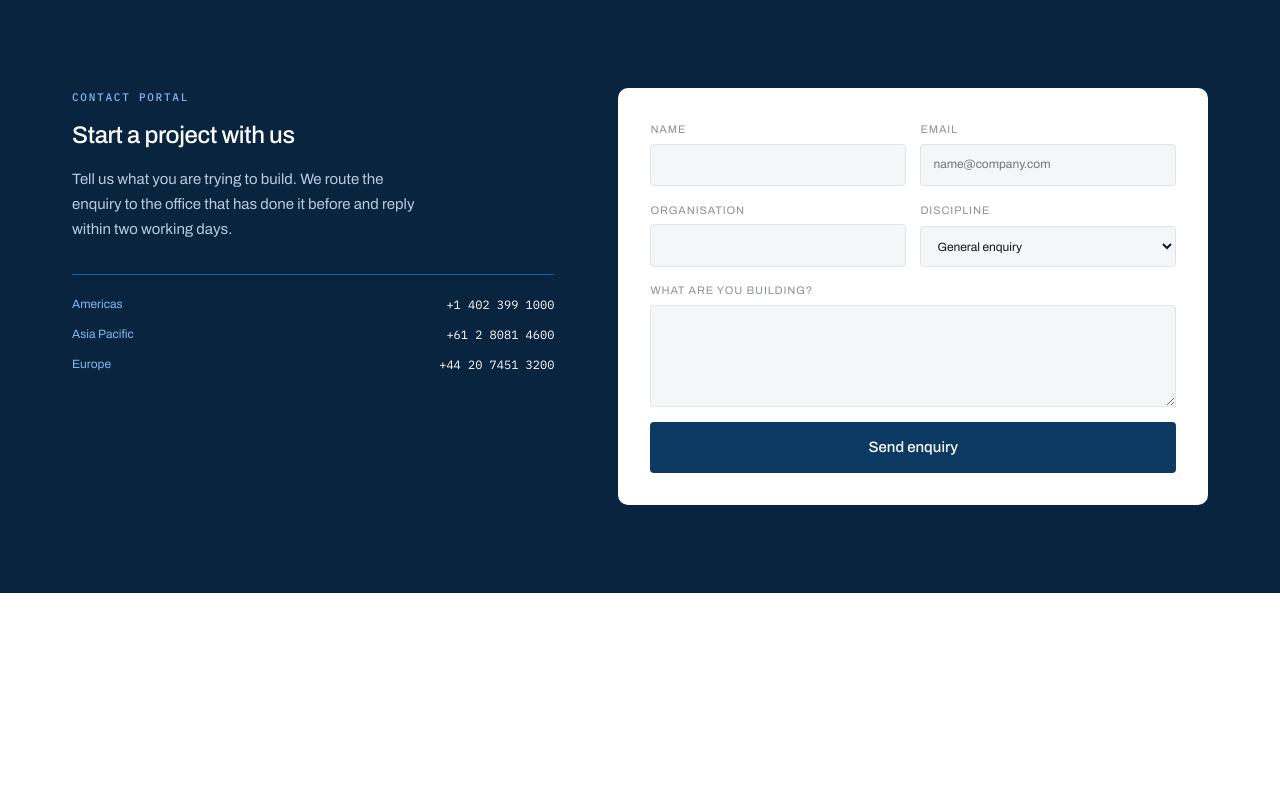
ContactPortal › replaces the form with a receipt once the enquiry lands
Step 1. Type "Nini Chen" into the field with id "name" → {"x": 778, "y": 165}, box [650, 144, 906, 186]
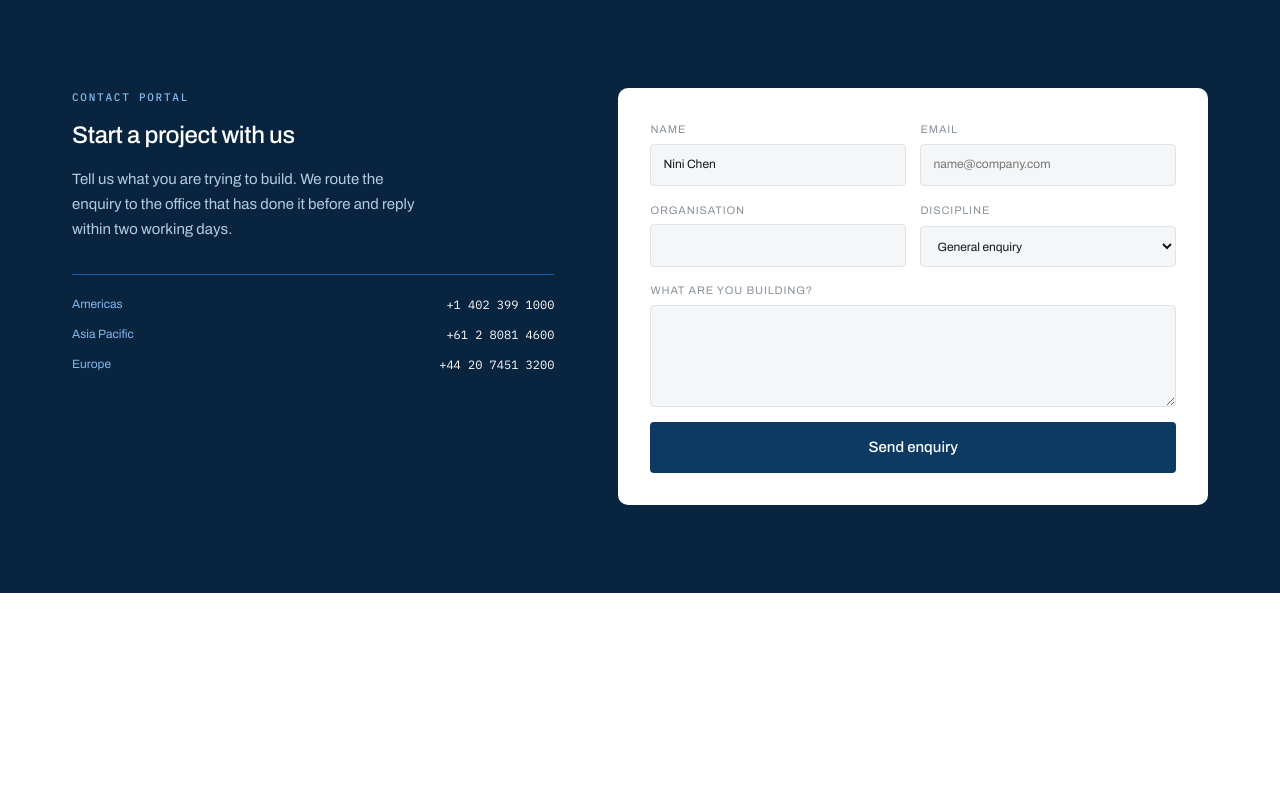
Step 2. Type "nini@example.com" into the field with id "email" → {"x": 1048, "y": 165}, box [920, 144, 1176, 186]
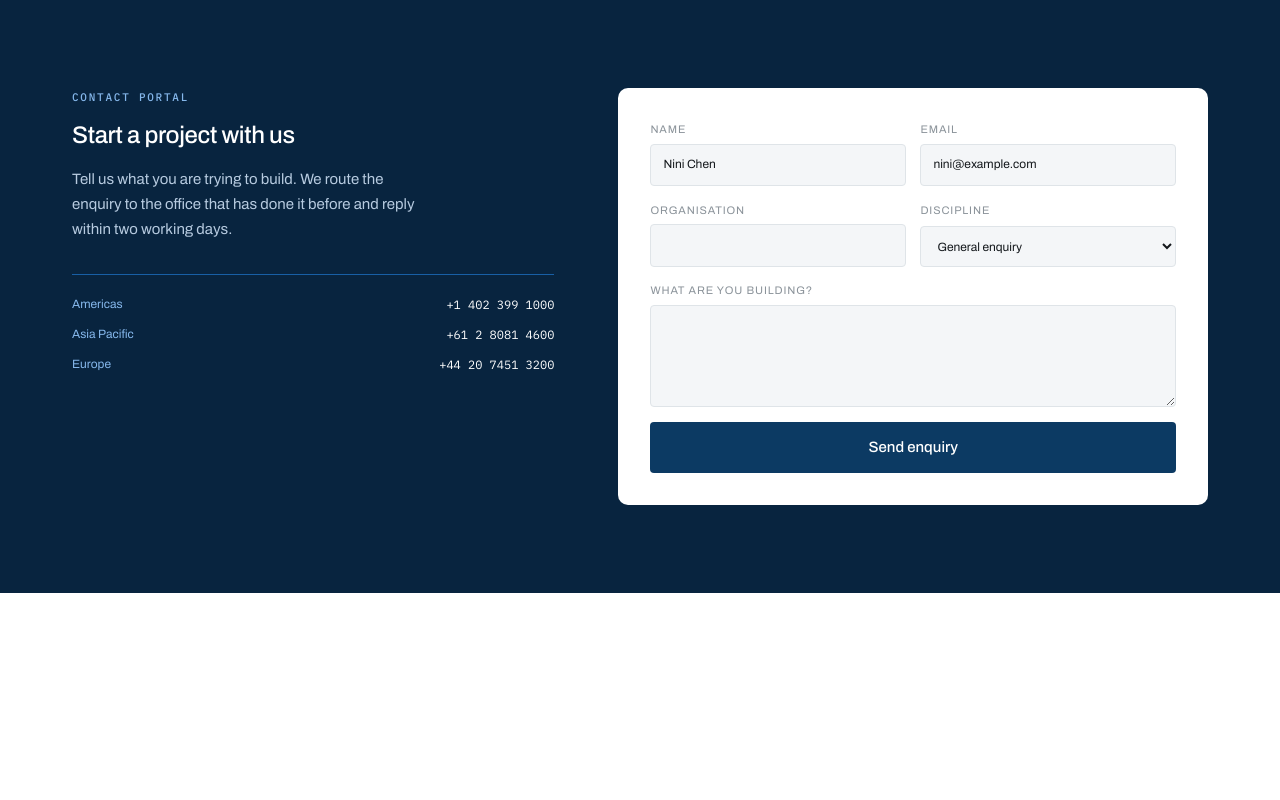
Step 3. Type "Kaohsiung Water Bureau" into the field with id "organisation" → {"x": 778, "y": 246}, box [650, 224, 906, 267]
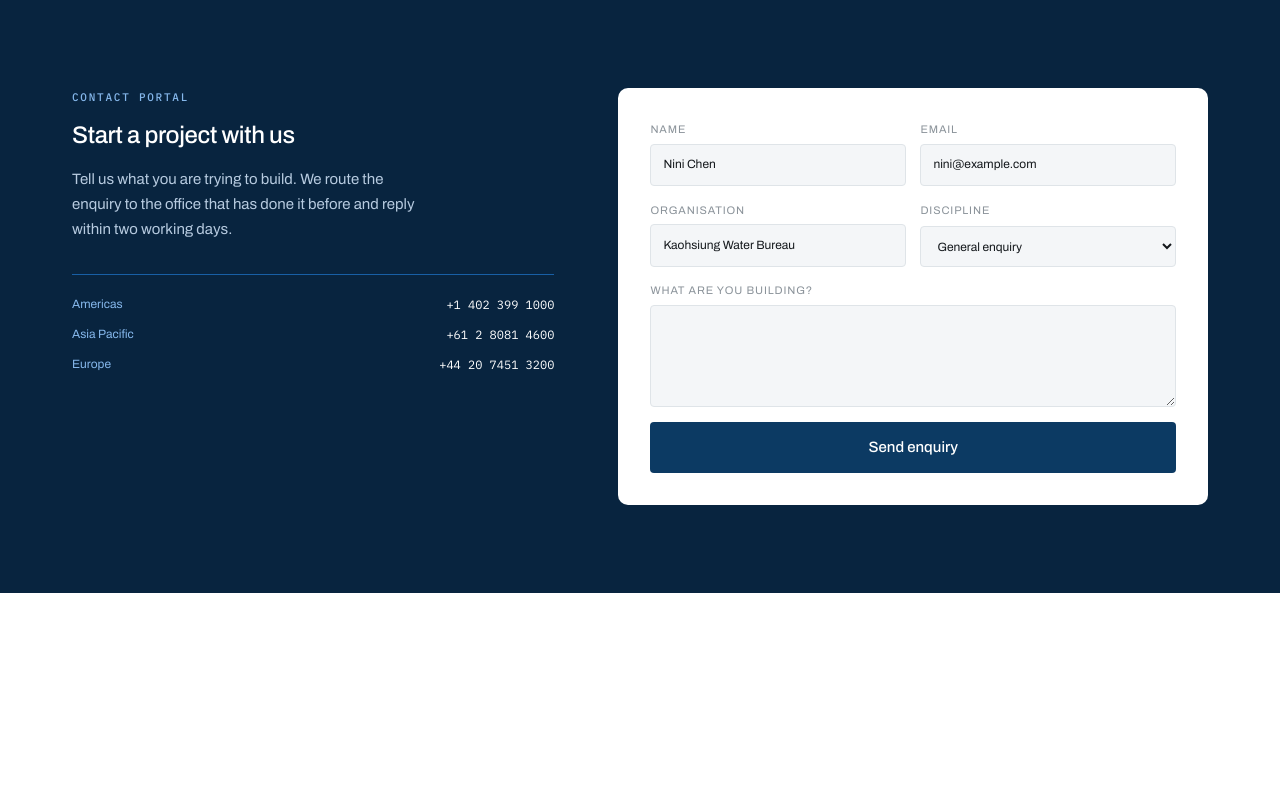
Step 4. Select "Water" in the dropdown with id "discipline" → {"x": 1048, "y": 247}, box [920, 226, 1176, 267]
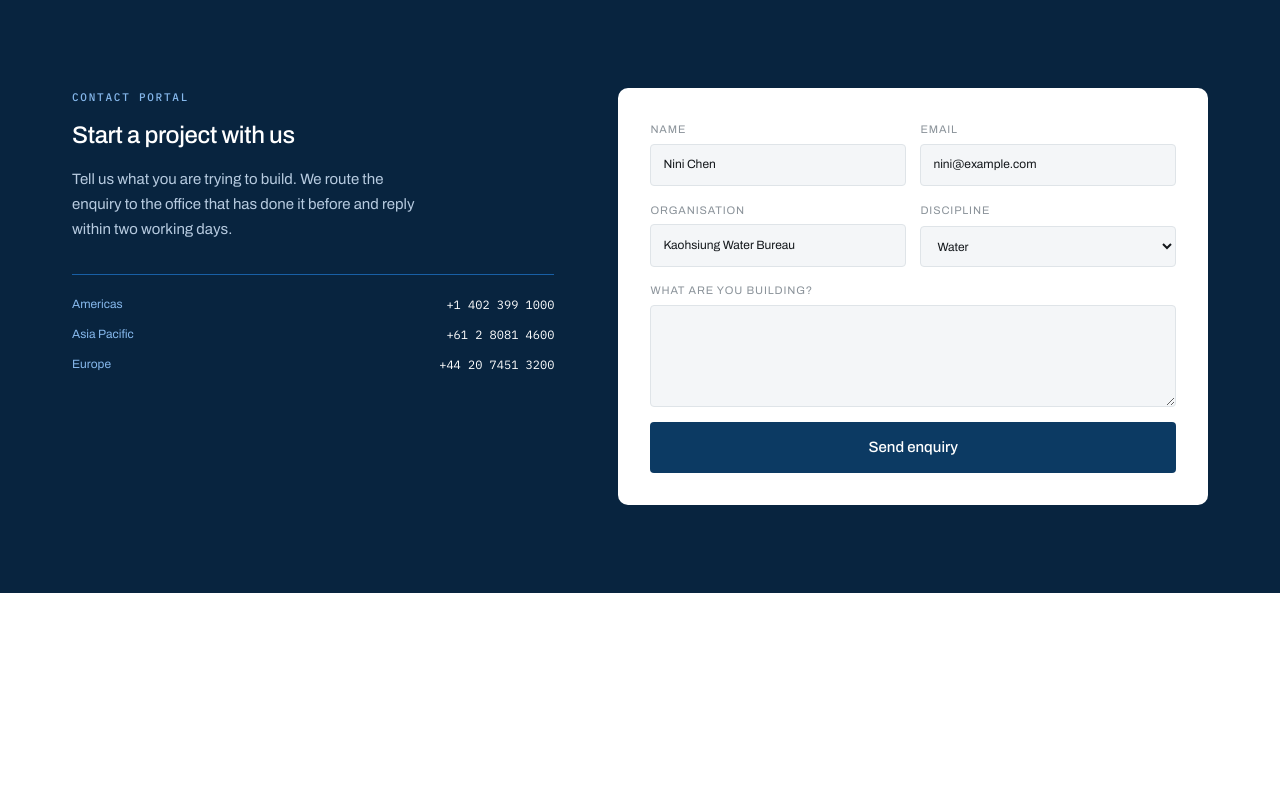
Step 5. Type "We are scoping a reuse plant and need a permitting strategy." into the text box with id "message" → {"x": 913, "y": 356}, box [650, 305, 1176, 407]
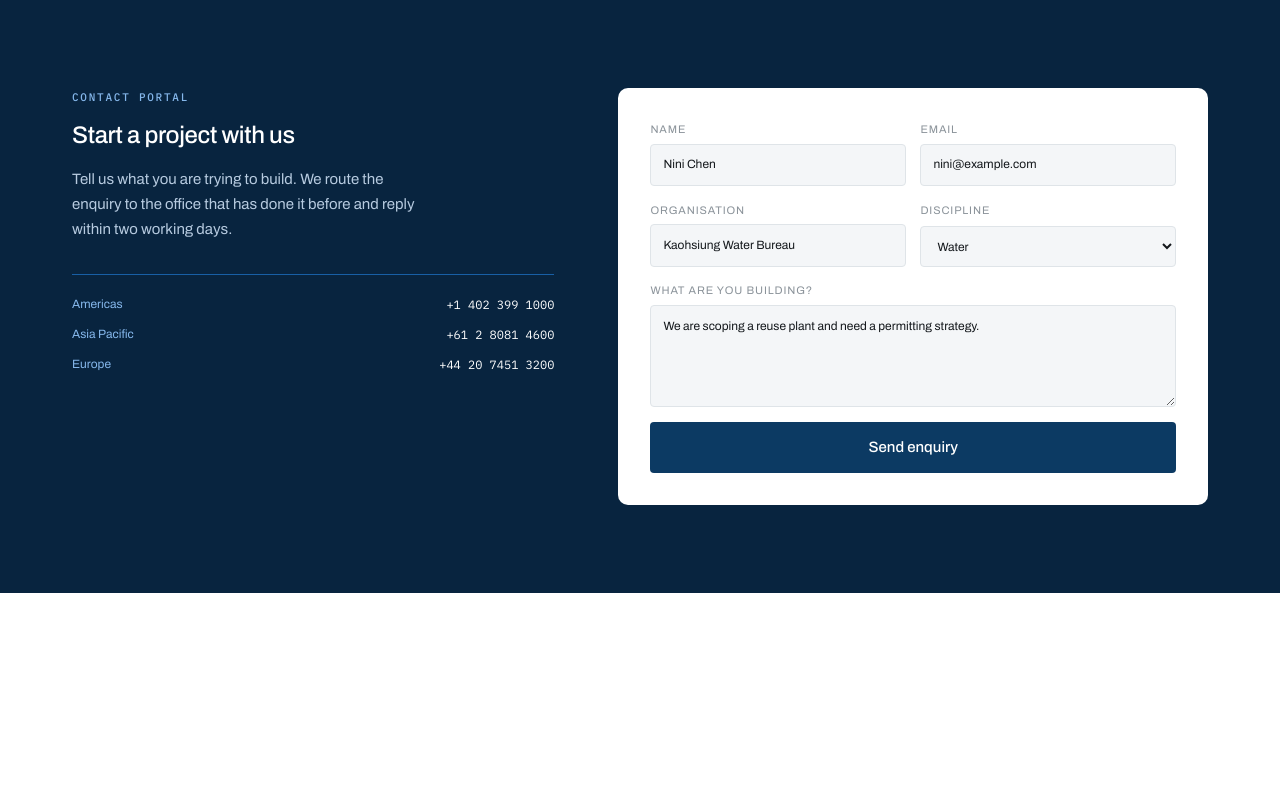
Step 6. Submit the form, box [650, 120, 1176, 473]
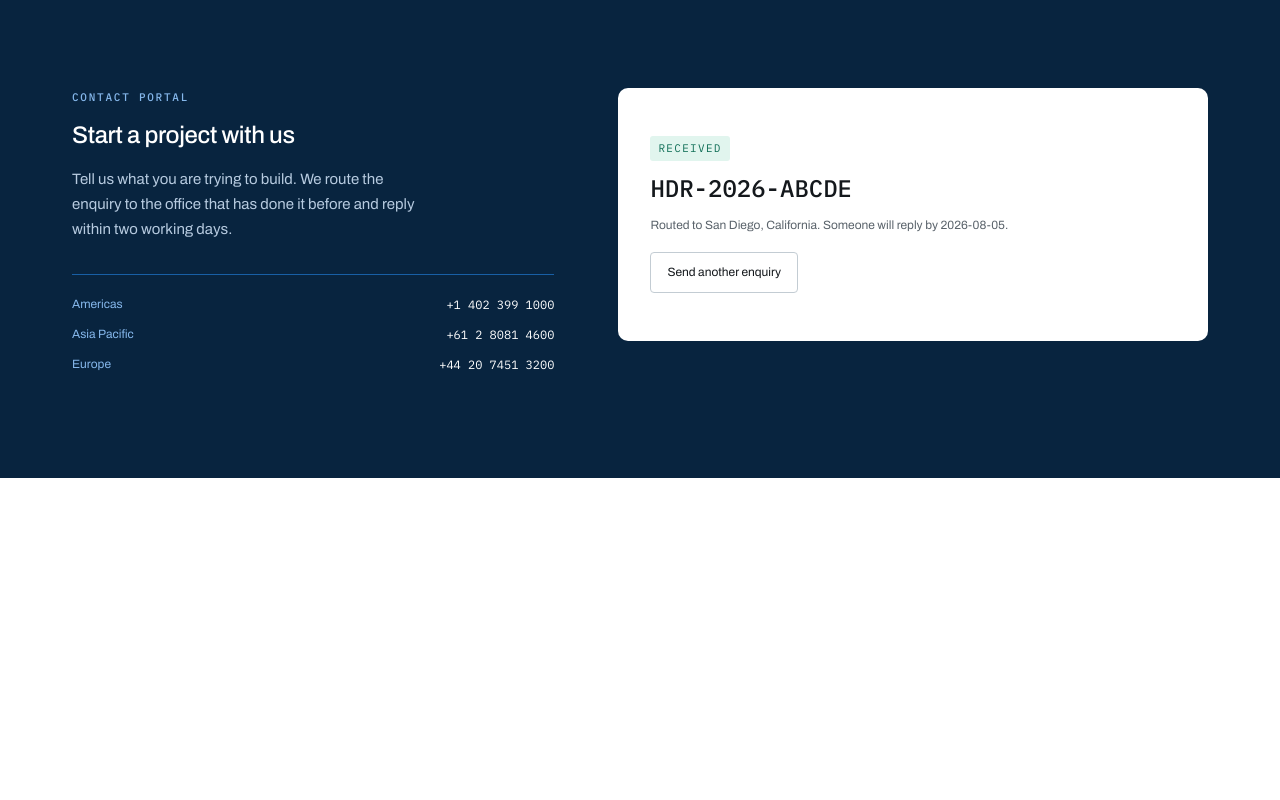
Expected: the text "HDR-2026-ABCDE" is shown, [650, 172, 852, 204]
Expected: the text "San Diego, California" is shown, [650, 218, 1008, 232]
Expected: the text "2026-08-05" is shown, [650, 218, 1008, 232]
